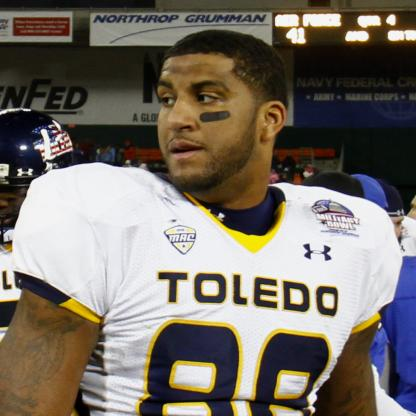Helmet: (5, 112, 66, 178)
